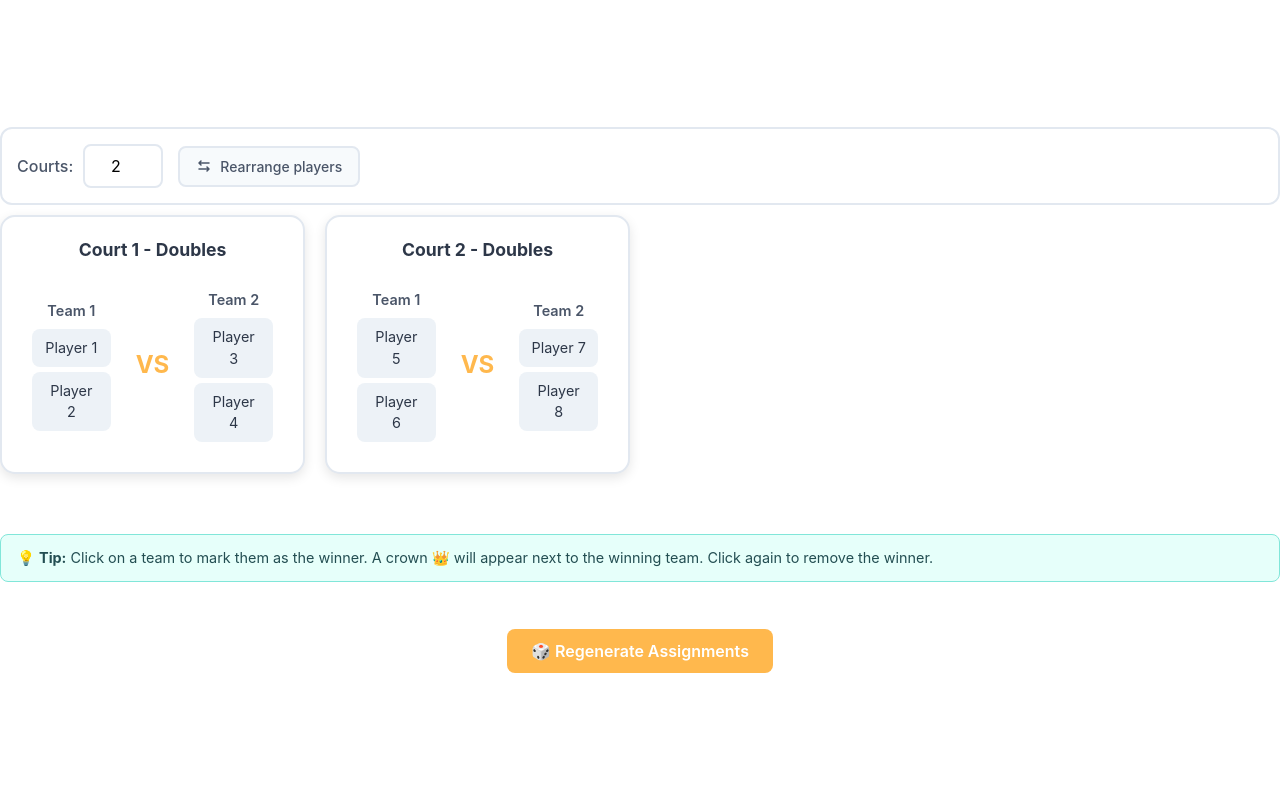
Test: CourtAssignments drag-and-drop editing › touch edit mode (tap-to-swap) › leaves edit mode via Done
Press the mouse on the text "Player 1": [71, 348] box [32,329,111,367]
Wait 400 ms
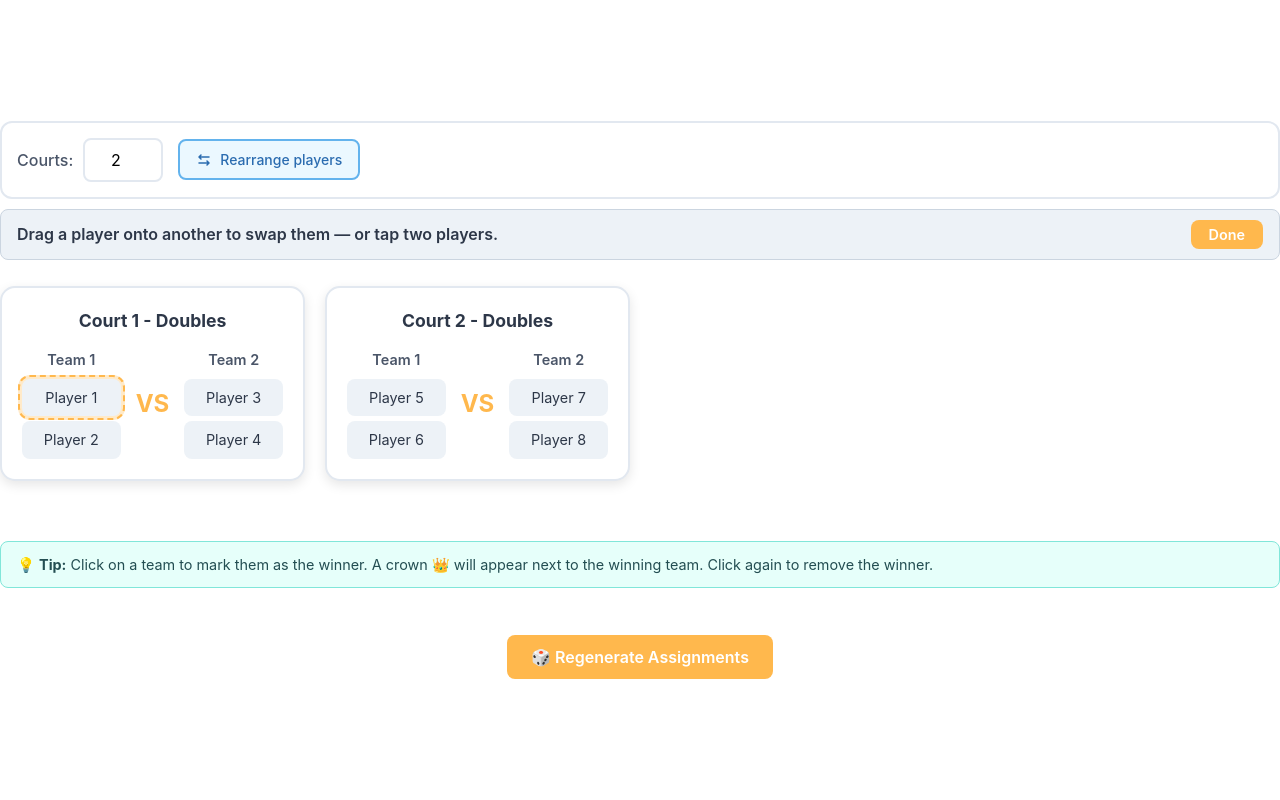
Click the button with test id "edit-mode-done": [1227, 234] box [1190,220,1263,249]
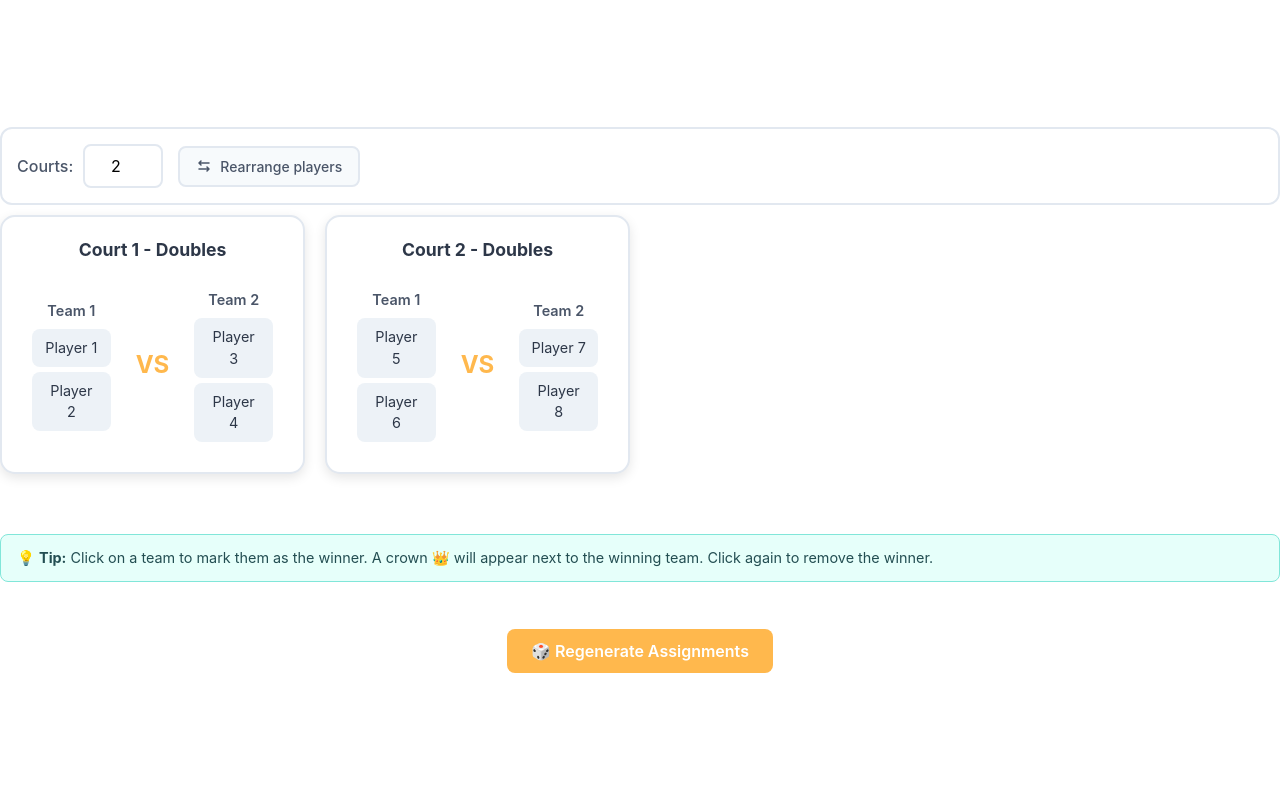
Result: the element with test id "edit-mode-banner" is gone
